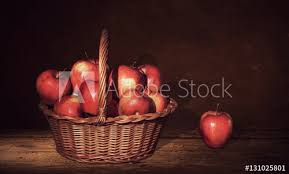apple: (198, 109, 236, 148), (73, 58, 113, 89), (79, 82, 113, 116), (36, 71, 72, 101), (112, 64, 146, 95), (120, 92, 155, 120), (55, 93, 79, 117)
